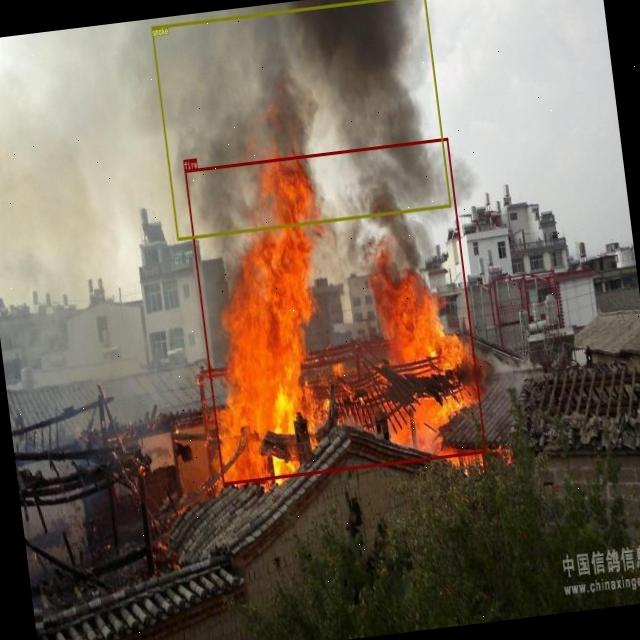fire: (184, 137, 486, 485)
smoke: (151, 0, 451, 240)
